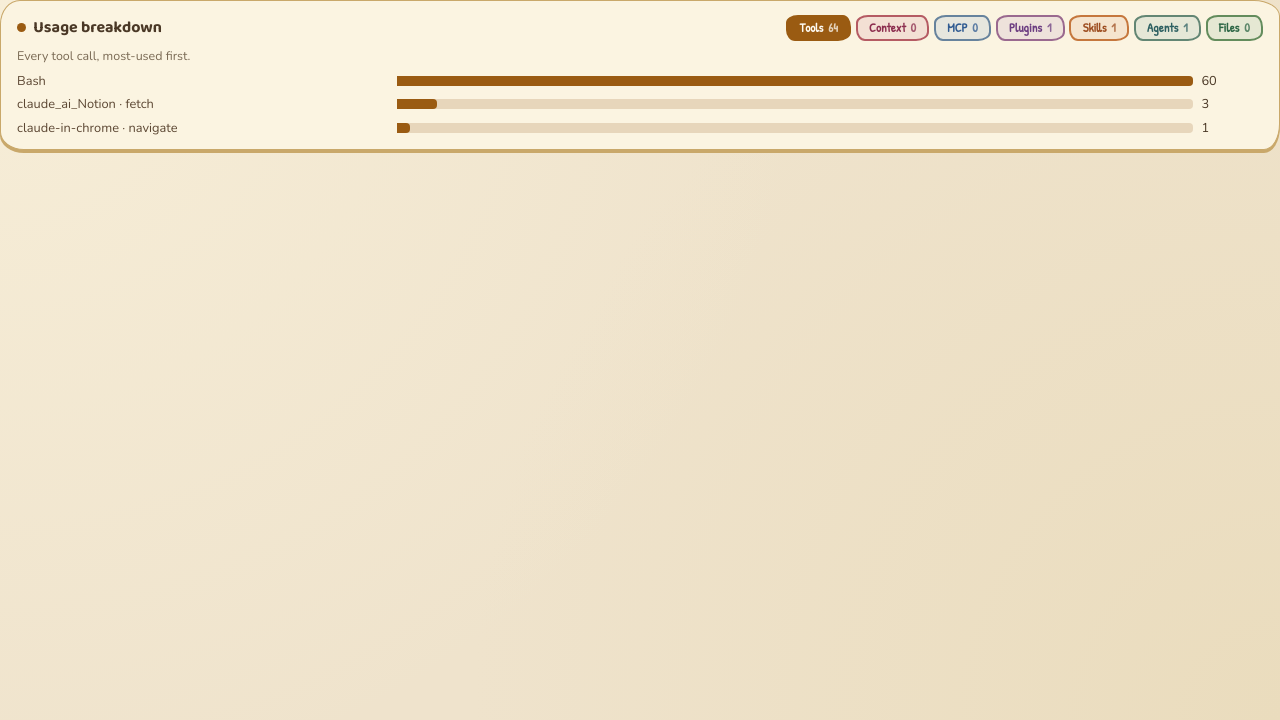
Test: <UsageCallout/> › prefers attribution on the Plugins tab — cost, not invocation count
Click the button "Plugins 1" at (1030, 28), box top-left (996, 15), bottom-right (1065, 41)
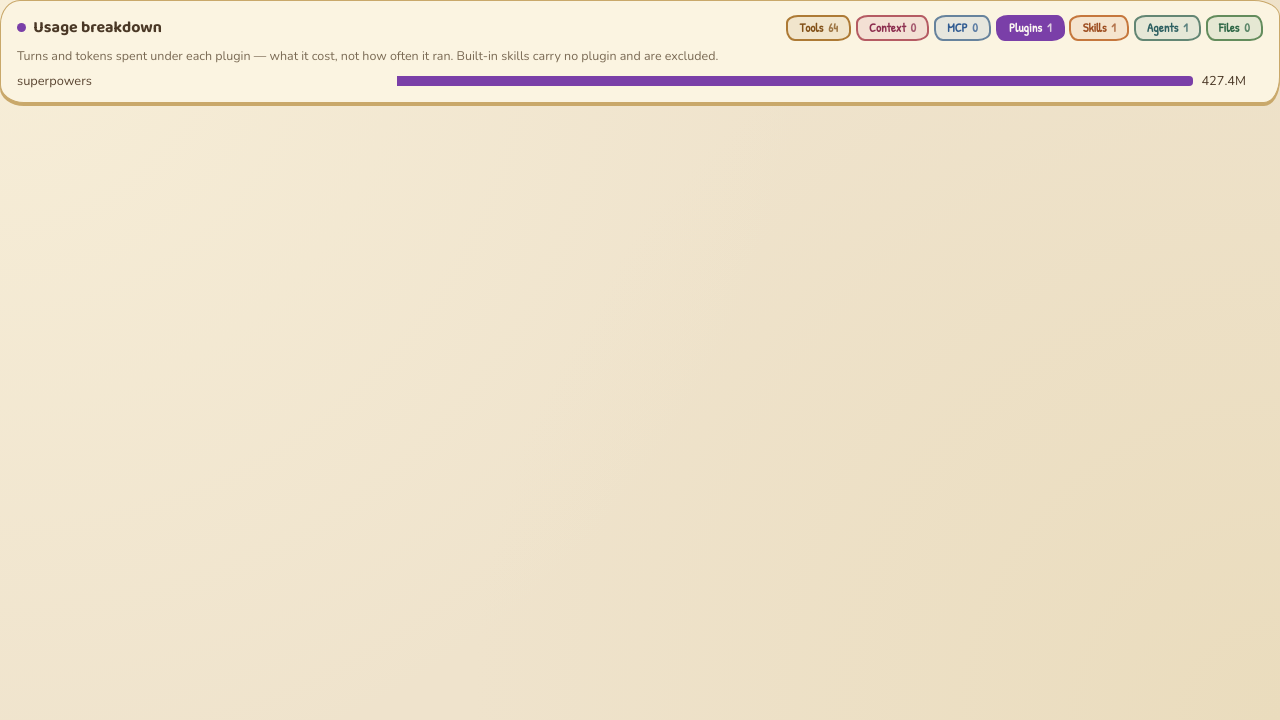
Now the text "superpowers" is shown, box top-left (17, 72), bottom-right (92, 90)
